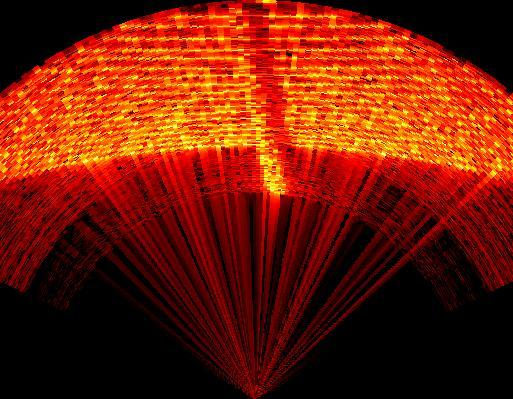pipe: (225, 6, 297, 200)
